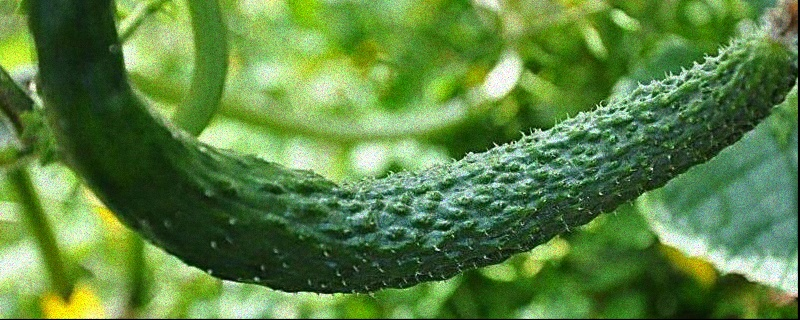cucumber: (46, 8, 789, 290)
